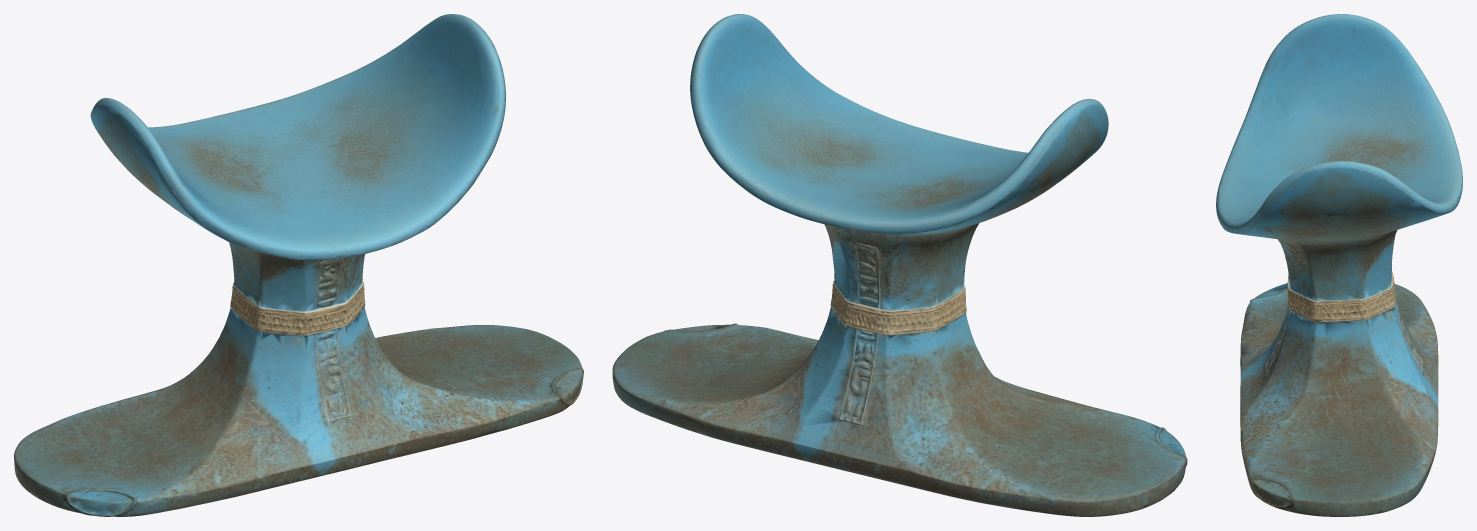
Rendered from headrest-blue.glb.
The picture shows the model from 3 angles, left to right: view 1: azimuth 30°, elevation 25°; view 2: azimuth 150°, elevation 25°; view 3: azimuth 270°, elevation 25°; orthographic projection. The views are drawn at different scales.
Size of the model in its own units: 1.9 by 1.24 by 0.8737.
1 material, 1 textured.
